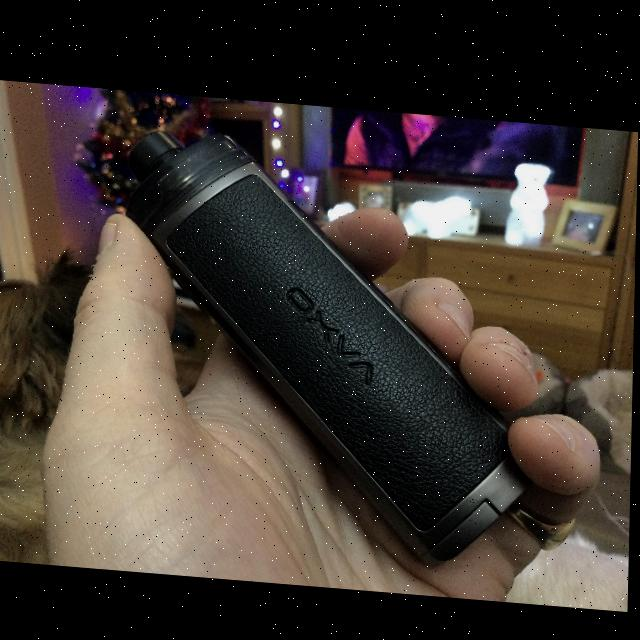vape: (126, 128, 547, 561)
